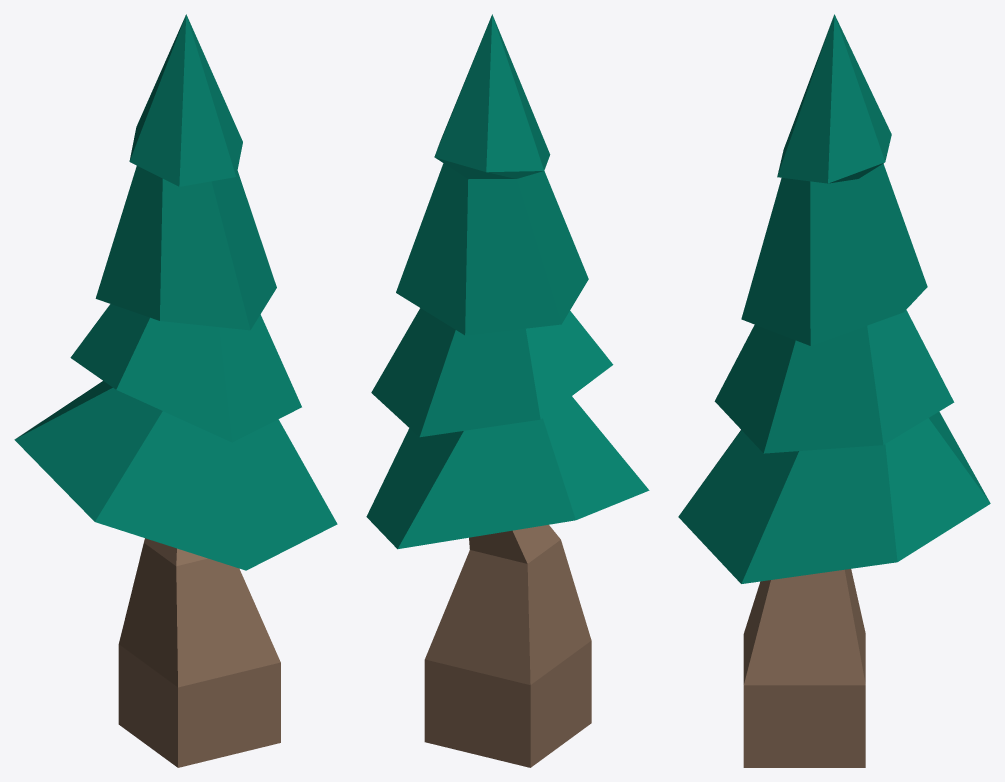
Rendered from Pine_03_Mesh.fbx.
3 renders of one model, left to right at view 1: azimuth 30°, elevation 25°; view 2: azimuth 150°, elevation 25°; view 3: azimuth 270°, elevation 25°, orthographic. The views are drawn at different scales.
Parts seen in each view (by area): view 1: Pine.003_LOD0; view 2: Pine.003_LOD0; view 3: Pine.003_LOD0.
Boxes of the visible parts, left/top/right/bottom form: Pine.003_LOD0: left=14, top=14, right=337, bottom=767; Pine.003_LOD0: left=366, top=14, right=649, bottom=767; Pine.003_LOD0: left=678, top=14, right=990, bottom=767.
Size of what is drawn, in the model's own units: 7311 by 21281 by 8273.
